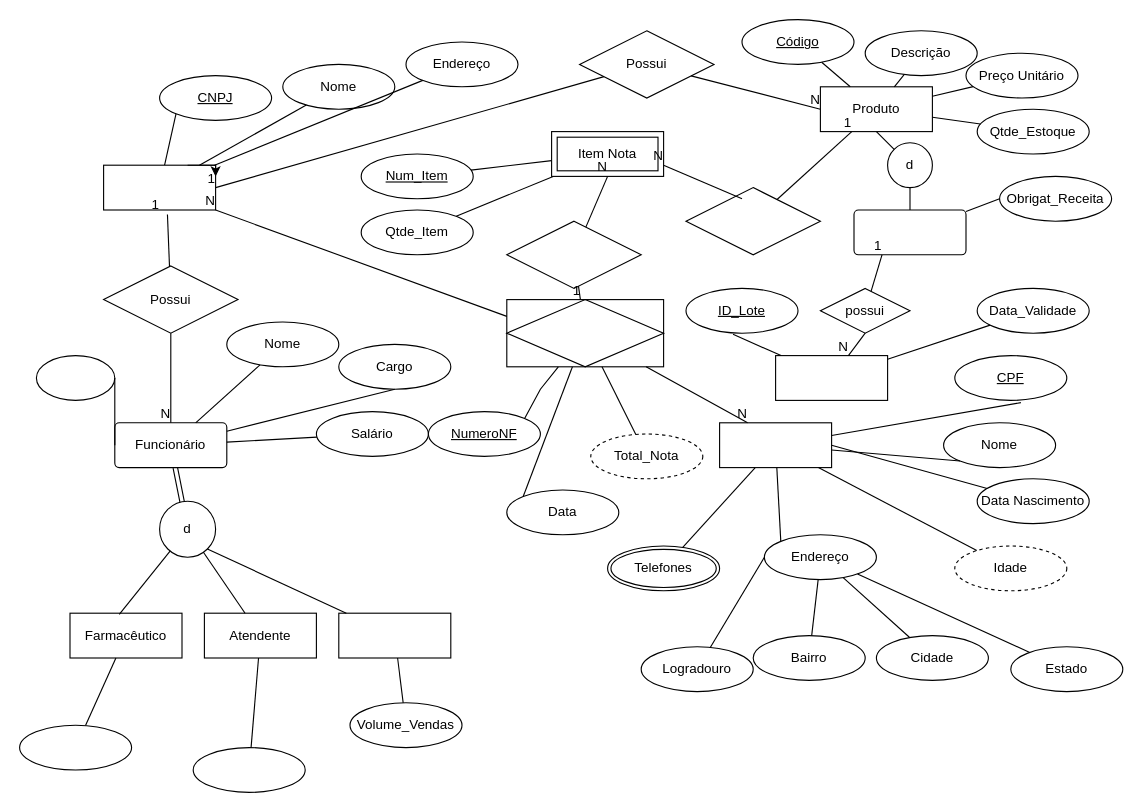
The diagram is 1142 pixels wide and 812 high, and some of its shapes have lost their labels. Each missing label, with the centre of its shape:
Cliente: the point at 775,445
Farmácia: the point at 159,187
Gerente: the point at 394,635
Lote_Remédio: the point at 831,377
Matrícula: the point at 75,377
Nota Fiscal: the point at 585,332
NumConselho: the point at 75,747
Percentual_Comissão: the point at 248,769
Pertence: the point at 573,254
Refere-se: the point at 752,220
Remédio: the point at 909,232
